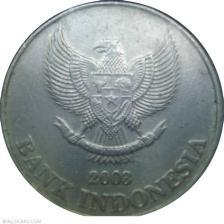coin_500_e2003: (0, 0, 224, 216)
